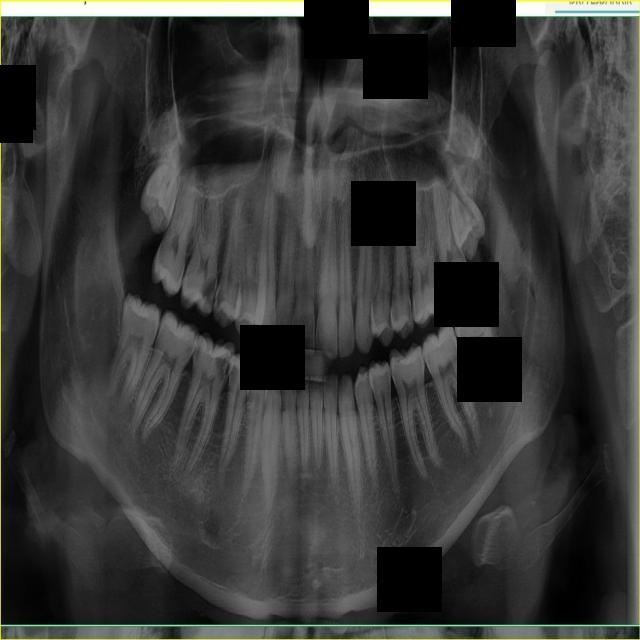Sterngold Implant: (212, 345, 235, 384), (209, 278, 230, 314), (198, 273, 217, 311), (227, 356, 240, 396), (180, 337, 197, 361), (192, 337, 204, 364), (411, 290, 418, 319), (405, 300, 412, 326), (385, 305, 392, 330), (132, 312, 148, 322), (391, 299, 398, 321), (420, 351, 431, 365), (208, 353, 216, 364), (386, 367, 391, 380), (453, 329, 455, 339)
